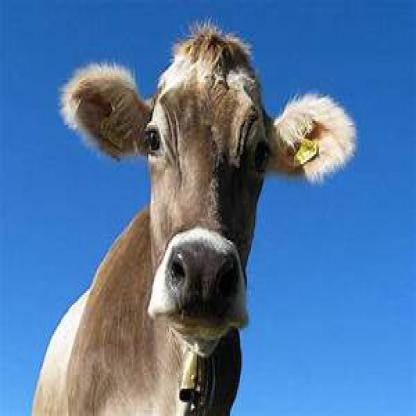cow: (33, 25, 358, 414)
